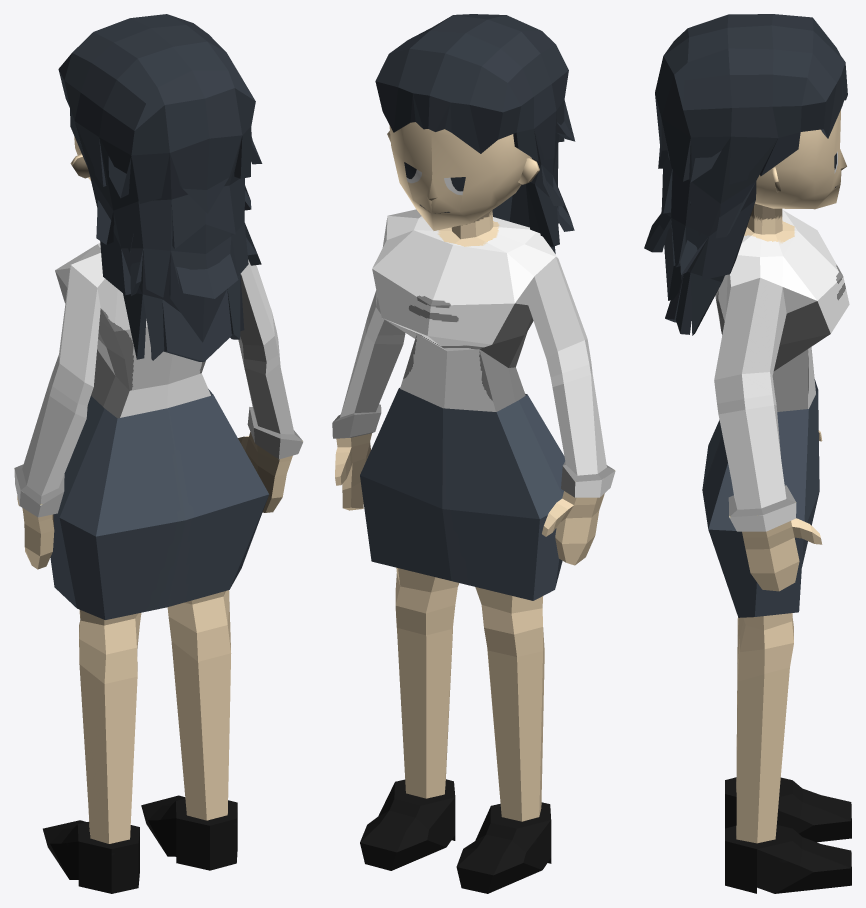
The model's file is F LONG HAIR.glb.
3 renders of one model, left to right at view 1: azimuth 30°, elevation 25°; view 2: azimuth 150°, elevation 25°; view 3: azimuth 270°, elevation 25°, orthographic. The views are drawn at different scales.
Parts seen in each view (by area): view 1: WOMEN OFFICE, LONG HAIR; view 2: WOMEN OFFICE, LONG HAIR, WOMEN HEAD; view 3: WOMEN OFFICE, LONG HAIR, WOMEN HEAD.
Boxes of the visible parts, x1,y1,x2,y2 form: WOMEN OFFICE: (14, 243, 303, 893); LONG HAIR: (58, 14, 262, 361); WOMEN OFFICE: (332, 209, 615, 893); LONG HAIR: (375, 14, 575, 253); WOMEN HEAD: (389, 122, 531, 230); WOMEN OFFICE: (702, 203, 851, 893); LONG HAIR: (644, 14, 847, 335); WOMEN HEAD: (755, 110, 846, 209).
Bounding box in the file's own units: 3.07 × 9.1 × 2.07.
4 materials, 4 textured.
